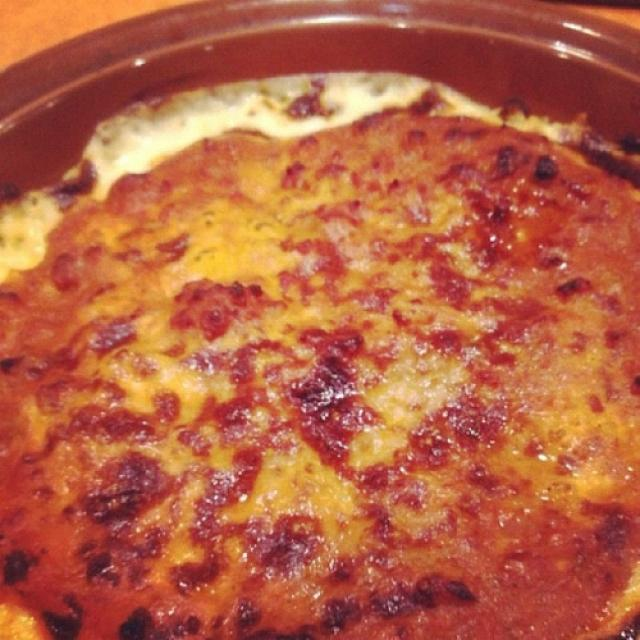米饭主食: (27, 69, 626, 626)
